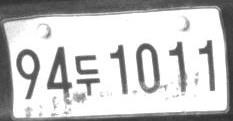0: (135, 42, 160, 94)
1: (107, 44, 132, 94), (197, 39, 221, 91), (166, 41, 188, 92)
4: (47, 46, 72, 97)
9: (15, 48, 41, 99)
두: (74, 54, 101, 96)
